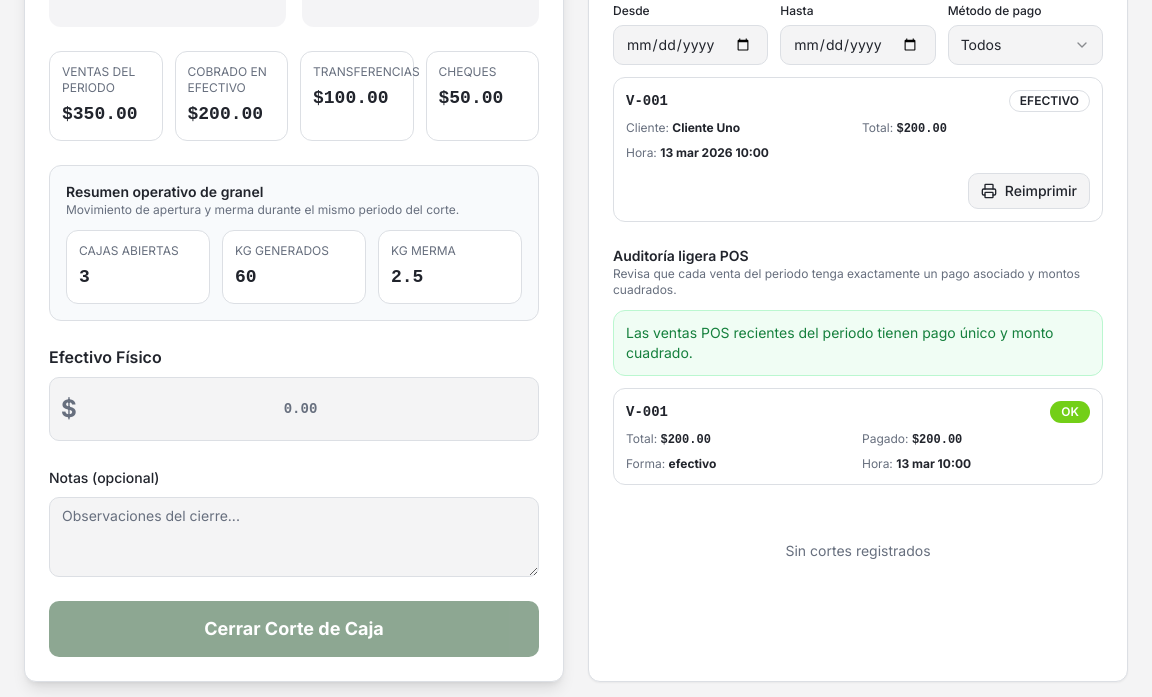
CorteCajaTab flow › guarda el corte con los totales del periodo y muestra resultado cuadrado
(page scrolled)
Type "200" into the number field with placeholder "0.00" at (294, 409), box [49,377,539,441]
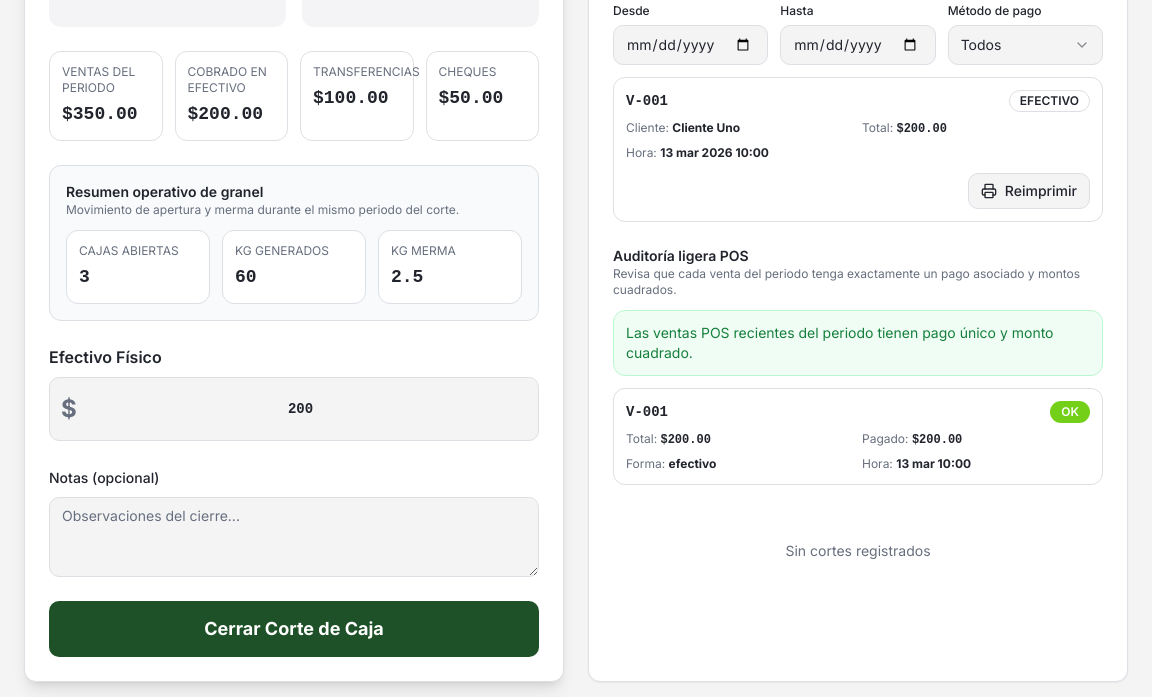
Click the button "Cerrar Corte de Caja" at (294, 629), box [49,601,539,657]
(page scrolled)
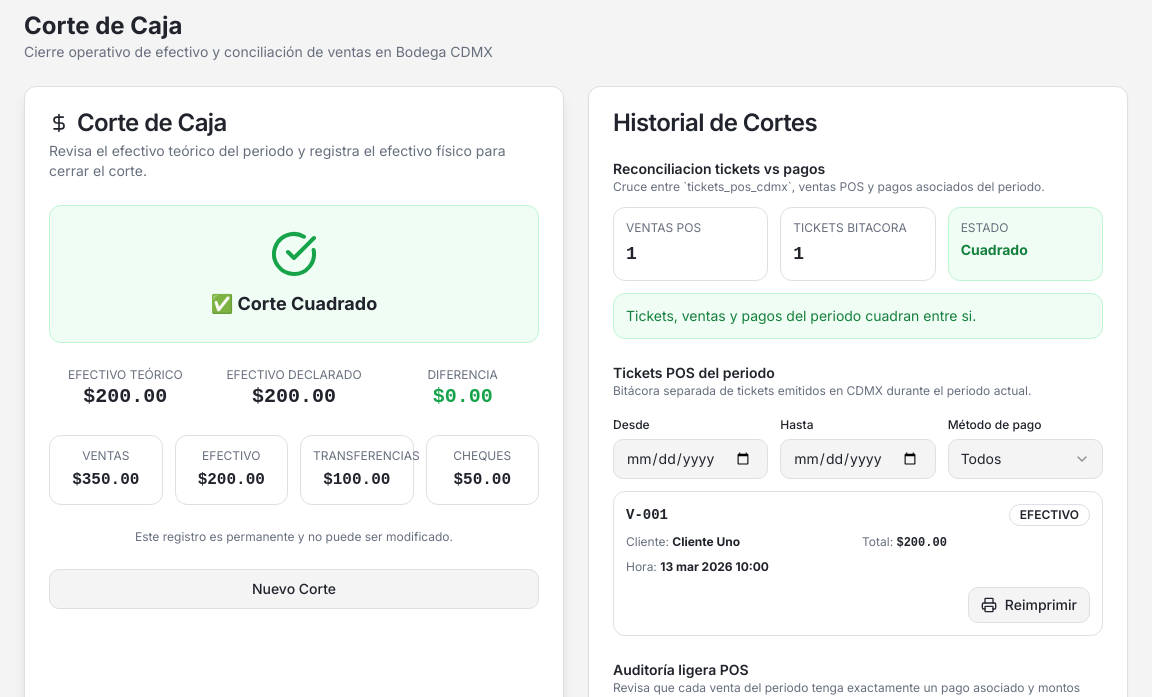
Check: the text "✅ Corte Cuadrado" is shown, box [211,293,377,314]
